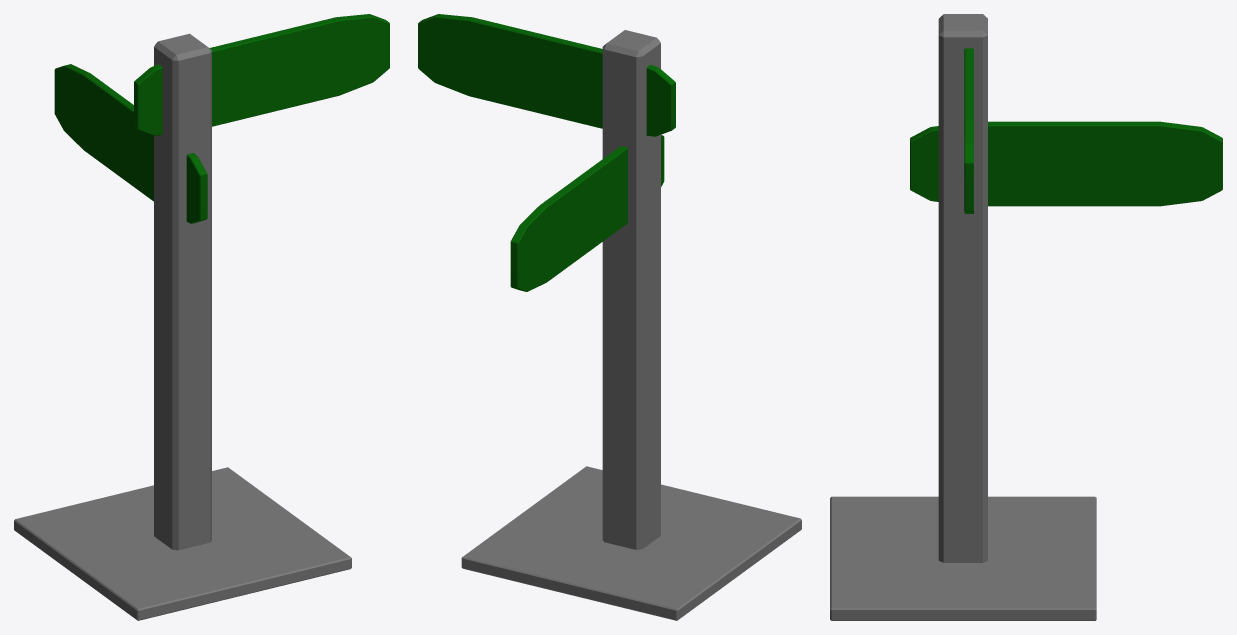
The model's file is Street sign 001.fbx.
3 views of the same model, side by side, from view 1: azimuth 30°, elevation 25°; view 2: azimuth 150°, elevation 25°; view 3: azimuth 270°, elevation 25° (orthographic). The views are drawn at different scales.
Visible parts, largest first — view 1: Poll, Base, Sign_01, Sign_02; view 2: Poll, Base, Sign_01, Sign_02; view 3: Base, Poll, Sign_02, Sign_01.
Boxes of the visible parts, x1,y1,x2,y2 form: Poll: (154,33,211,550); Base: (14,467,351,620); Sign_01: (134,14,389,135); Sign_02: (54,64,207,223); Poll: (602,30,660,549); Base: (461,466,801,620); Sign_01: (418,14,675,136); Sign_02: (510,135,664,291); Base: (830,496,1096,620); Poll: (938,14,987,562); Sign_02: (910,121,1222,206); Sign_01: (964,48,973,213).
Bounding box in the file's own units: 0.7451 × 1.14 × 0.7488.
